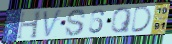6: (88, 9, 106, 35)
D: (129, 5, 154, 34)
H: (15, 10, 43, 41)
Q: (110, 6, 134, 34)
S: (64, 8, 88, 38)
V: (42, 8, 64, 39)
